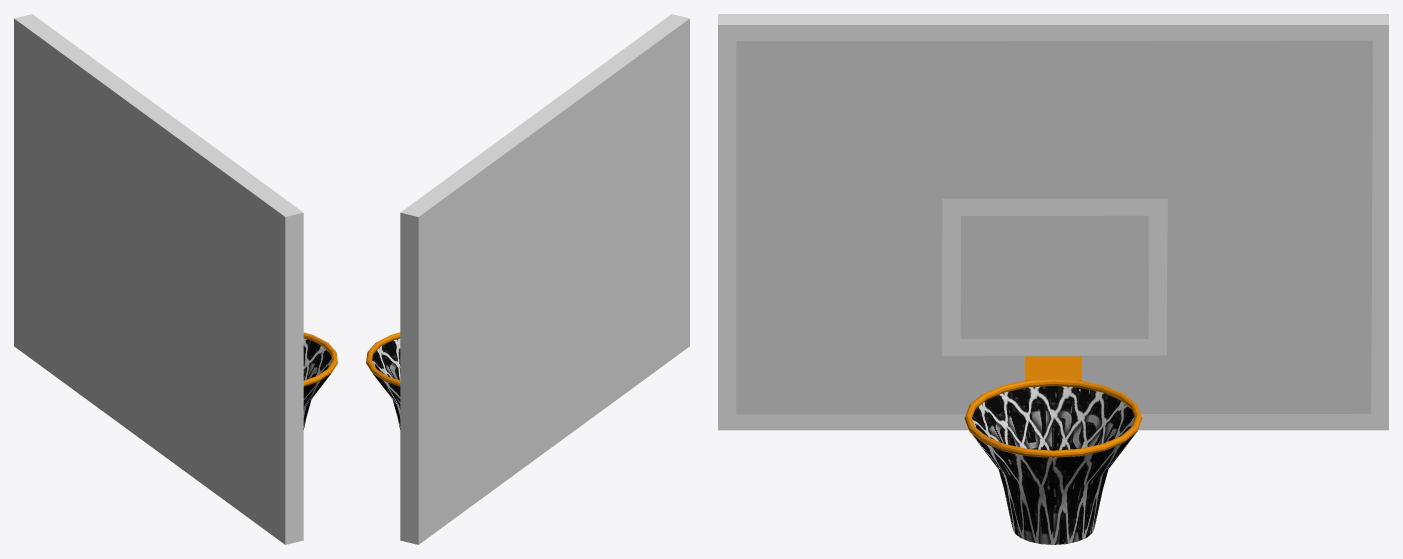
File: Hoop.fbx
3 renders of one model, left to right at view 1: azimuth 30°, elevation 25°; view 2: azimuth 150°, elevation 25°; view 3: azimuth 270°, elevation 25°, orthographic. The views are drawn at different scales.
Parts seen in each view (by area): view 1: pCube1, pPipe1, pCube3; view 2: pCube1, pPipe1, pCube3; view 3: pCube1, pPipe1, pCube3.
Boxes of the visible parts, x1,y1,x2,y2 form: pCube1: (14, 14, 303, 544); pPipe1: (303, 338, 331, 429); pCube3: (303, 332, 337, 386); pCube1: (400, 14, 689, 544); pPipe1: (372, 338, 400, 429); pCube3: (366, 332, 400, 386); pCube1: (718, 14, 1388, 430); pPipe1: (971, 386, 1135, 544); pCube3: (964, 356, 1142, 457).
Size of the model in its own units: 0.6853 by 1.31 by 1.8.
Materials: 3 (2 with a texture image).
